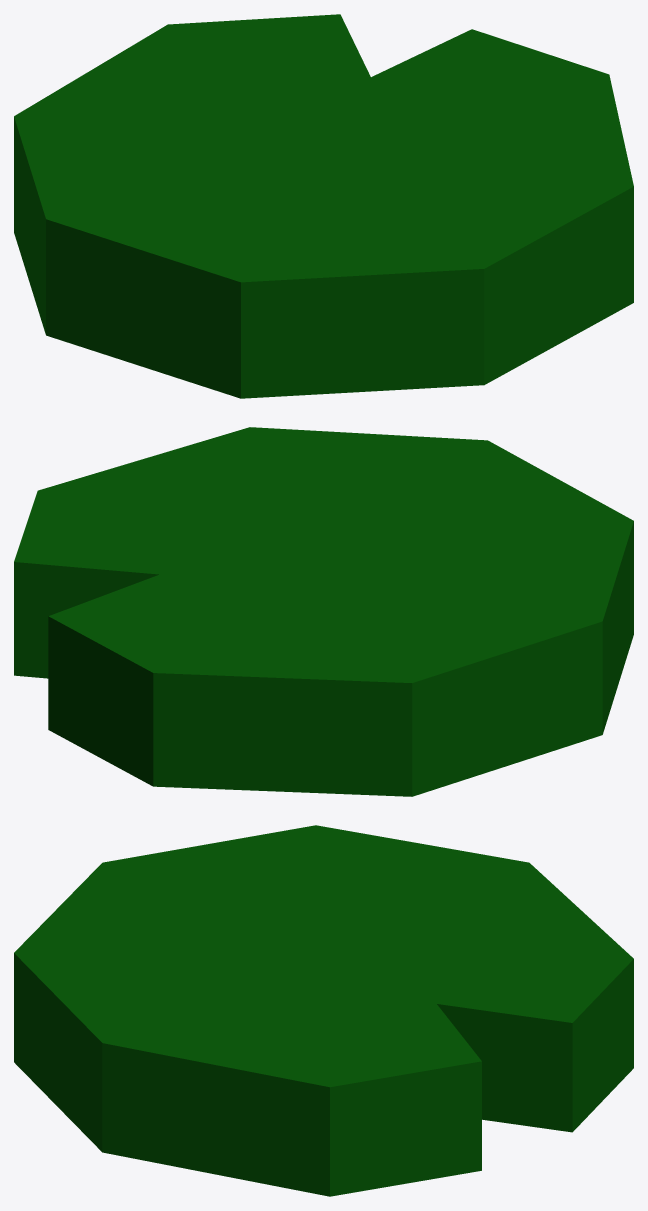
File: prop-lilypad.fbx
The picture shows the model from 3 angles, top to bottom: view 1: azimuth 30°, elevation 25°; view 2: azimuth 150°, elevation 25°; view 3: azimuth 270°, elevation 25°; orthographic projection. The views are drawn at different scales.
Visible parts, largest first — view 1: prop-lilypad; view 2: prop-lilypad; view 3: prop-lilypad.
Boxes of the visible parts, bbox=[...] form: prop-lilypad: bbox=[14, 14, 633, 398]; prop-lilypad: bbox=[14, 427, 633, 796]; prop-lilypad: bbox=[14, 825, 633, 1196].
Bounding box in the file's own units: 51.34 × 10 × 51.34.
